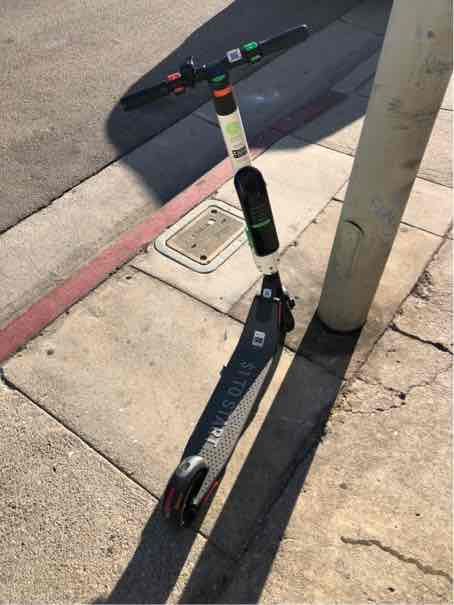scooter: (107, 22, 326, 541)
